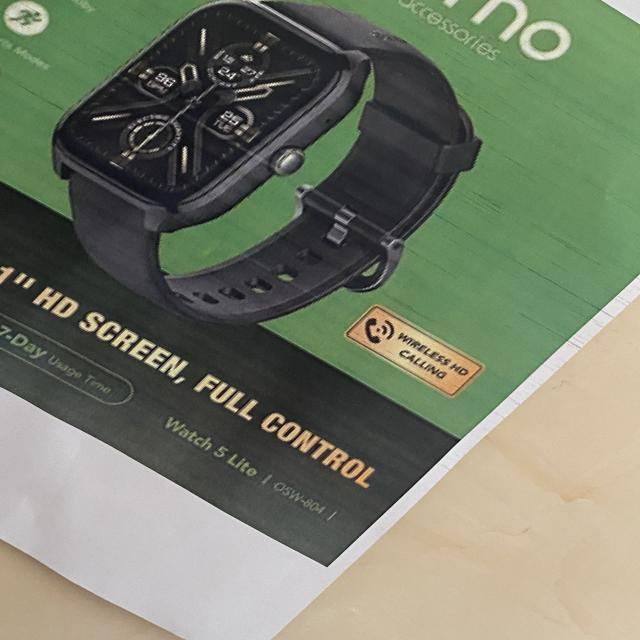Watch 5 Lite OSW-804: (150, 409, 349, 528)
